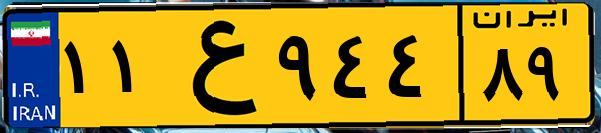1: (57, 26, 110, 100), (110, 28, 158, 98)
4: (385, 28, 445, 110), (330, 28, 385, 110)
8: (475, 38, 525, 113)
9: (270, 28, 330, 110), (525, 38, 570, 115)
ع: (158, 12, 270, 120)
